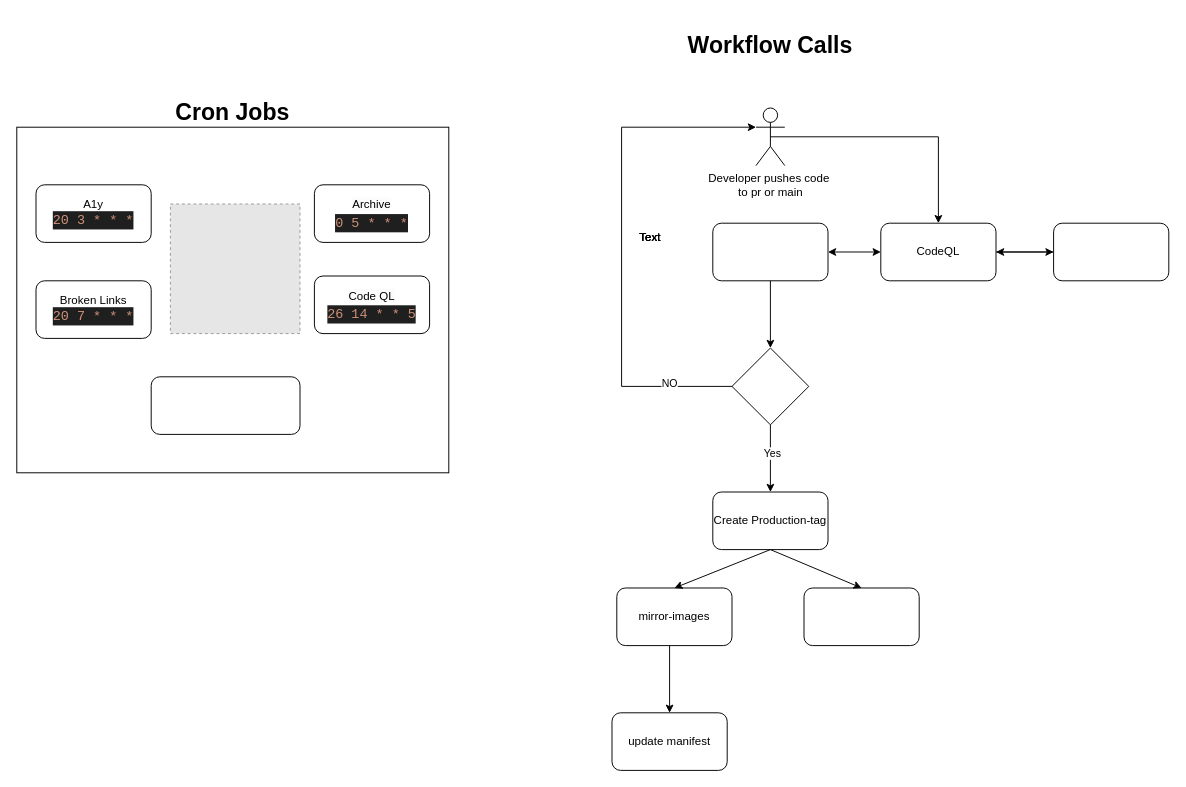
Image size: 1186x787. Some labels were removed from this diagram. Grey dashed boxes stand in for pictures. The shapes that lost their labels are listed below. From the top down, each one's centre as x and y in pixels, then its label:
At pixel 770 251: "CI".
At pixel 1111 251: "preview".
At pixel 225 405: "Recurring Release */30 8-20 * * 1-5".
At pixel 770 386: "Passed?".
At pixel 861 616: "Content Release".
